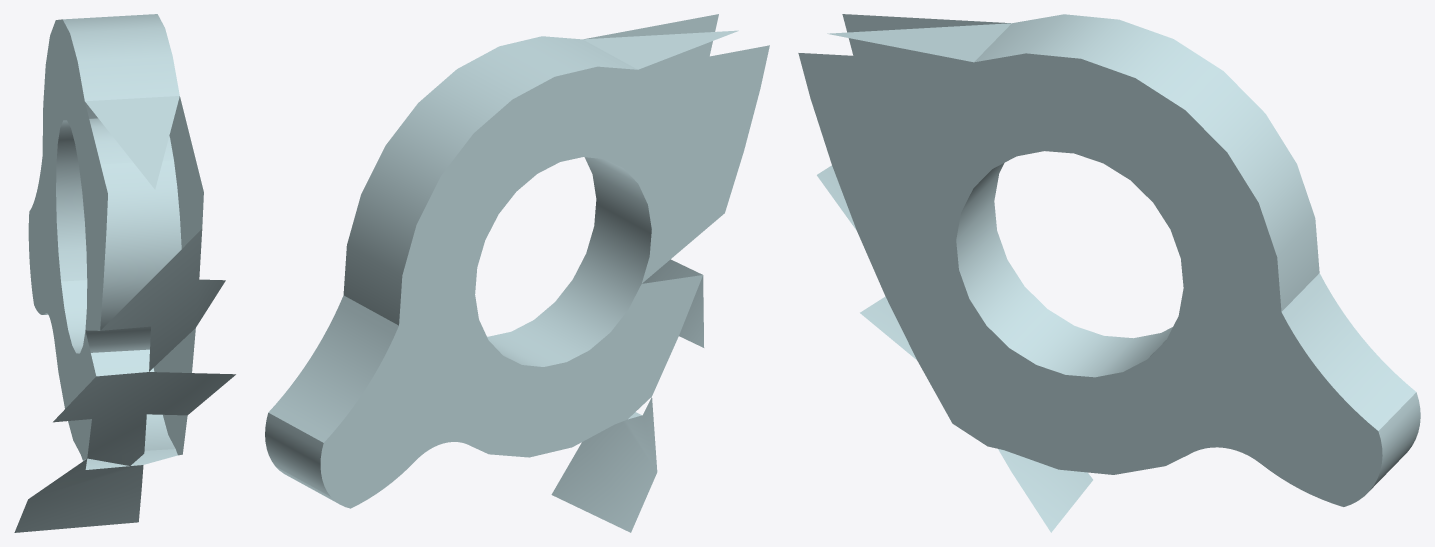
3 renders of one model, left to right at view 1: azimuth 30°, elevation 25°; view 2: azimuth 150°, elevation 25°; view 3: azimuth 270°, elevation 25°, orthographic. The views are drawn at different scales.
Size of the model in its own units: 0.1505 by 0.2484 by 0.2831.
